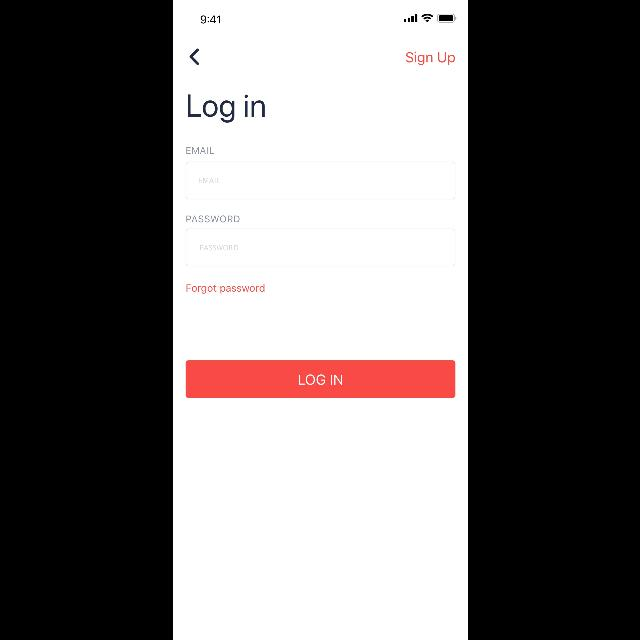icon: (190, 49, 198, 66)
input: (185, 162, 455, 200), (185, 229, 455, 267)
text: (188, 95, 264, 123), (186, 284, 264, 294), (406, 52, 454, 66), (186, 215, 238, 222), (200, 245, 238, 251), (186, 148, 214, 154), (199, 178, 219, 184)
textbutton: (185, 360, 455, 398)
uppertaskbar: (200, 14, 456, 24)
